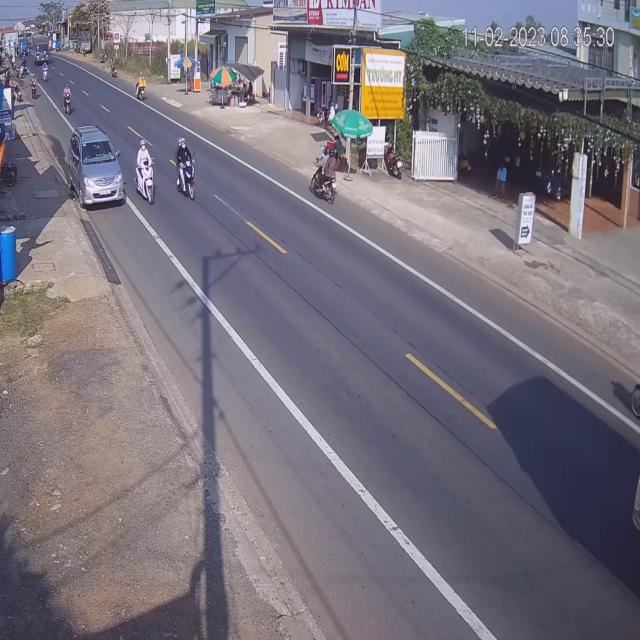car: (68, 128, 124, 210)
motorbike: (310, 144, 338, 206), (177, 137, 198, 200), (136, 140, 156, 205), (136, 74, 147, 105), (64, 82, 74, 116)
